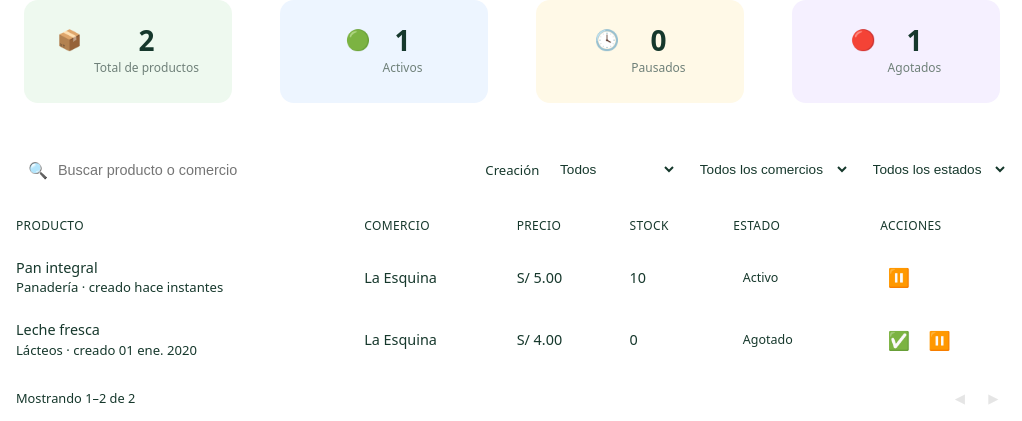
Scenario: panel de productos › filtra por fecha de creación del producto
Select "Última hora" in the dropdown named "Filtrar por fecha de creación" at (612, 170), box [546, 153, 678, 186]
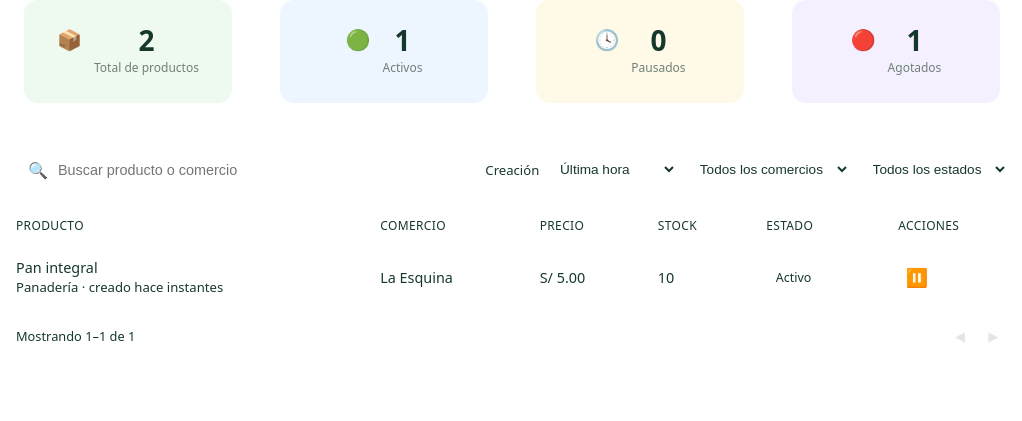
Expected: the text "Pan integral" is shown, [16, 258, 98, 277]
Result: the text "Leche fresca" is gone
